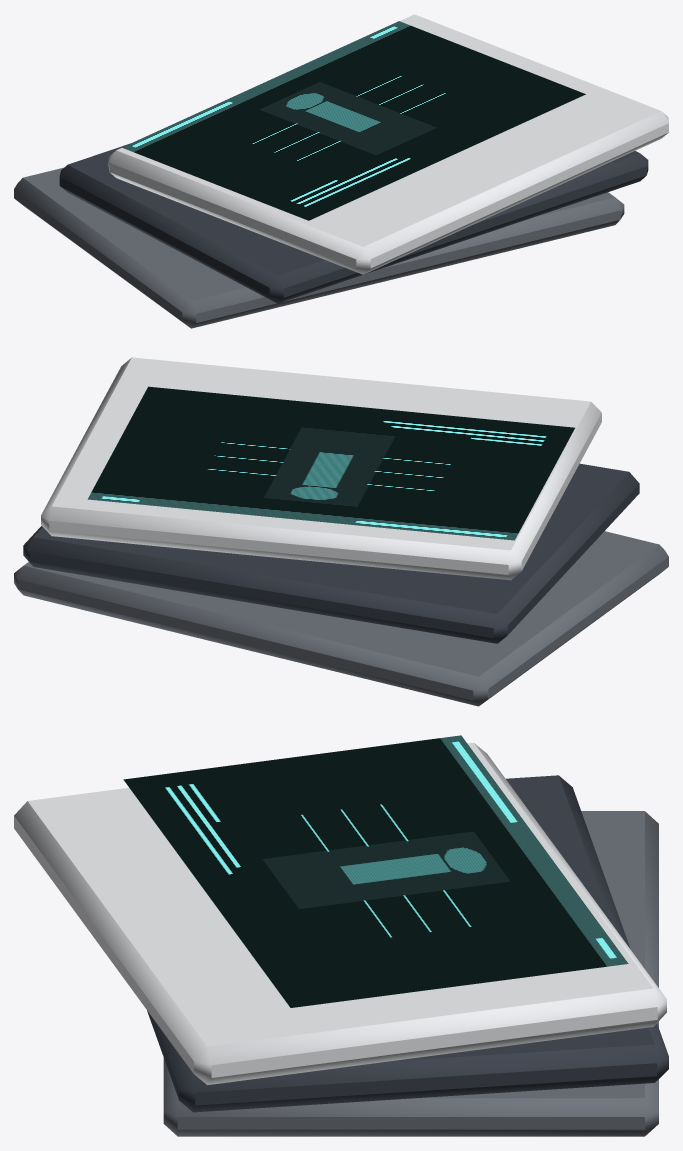
The model's file is terminal_datapad_stack.glb.
The picture shows the model from 3 angles, top to bottom: view 1: azimuth 30°, elevation 25°; view 2: azimuth 150°, elevation 25°; view 3: azimuth 270°, elevation 25°; orthographic projection. The views are drawn at different scales.
Parts seen in each view (by area): view 1: terminal_datapad_stack; view 2: terminal_datapad_stack; view 3: terminal_datapad_stack.
Boxes of the visible parts, box(x1,y1,x2,y2) form: terminal_datapad_stack: box(14, 14, 668, 328); terminal_datapad_stack: box(14, 357, 668, 706); terminal_datapad_stack: box(14, 735, 668, 1136).
Size of the model in its own units: 0.2255 by 0.0425 by 0.1851.
4 materials, 1 textured.
